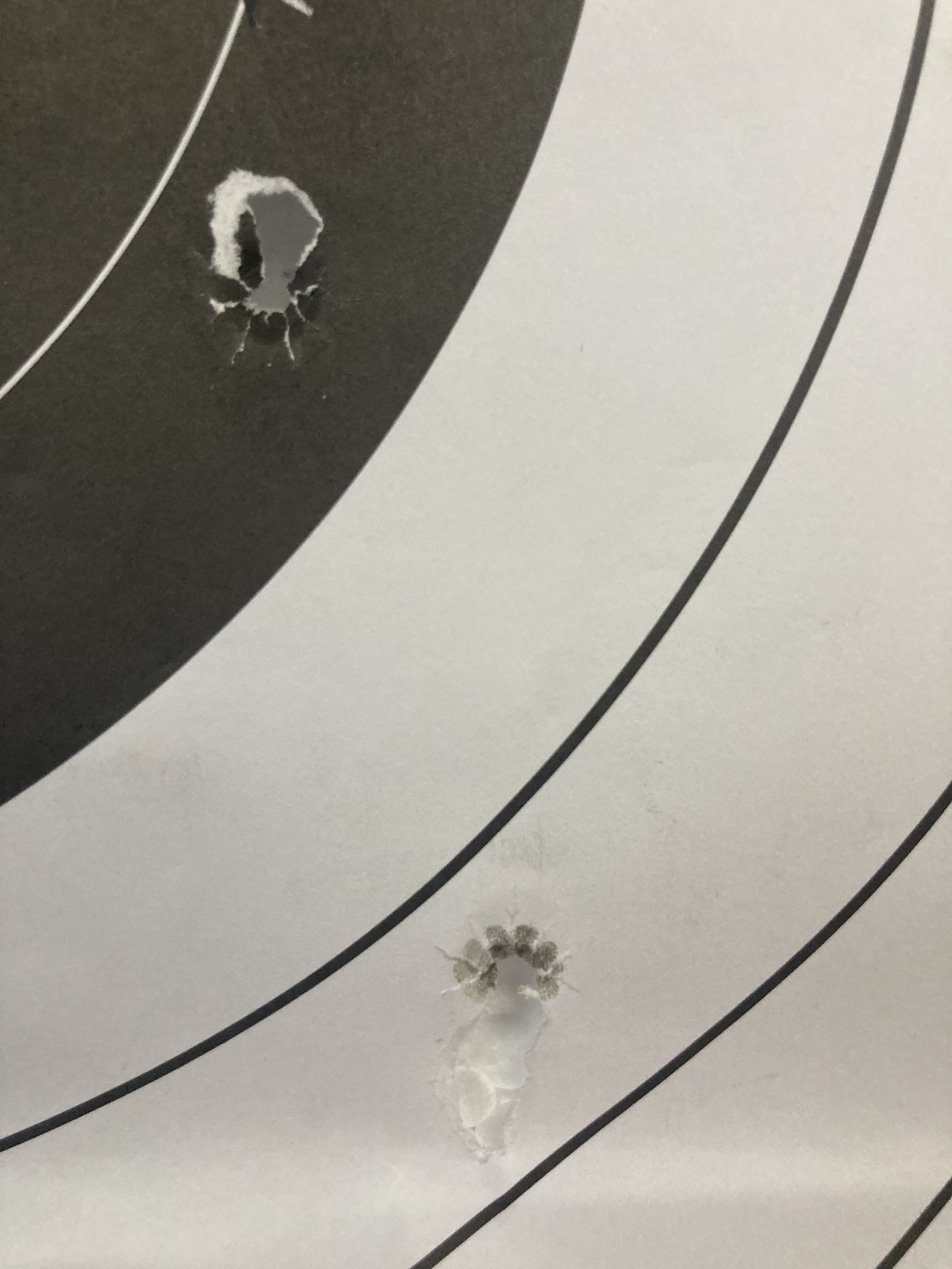hole: (179, 157, 381, 378), (425, 884, 611, 1073)
